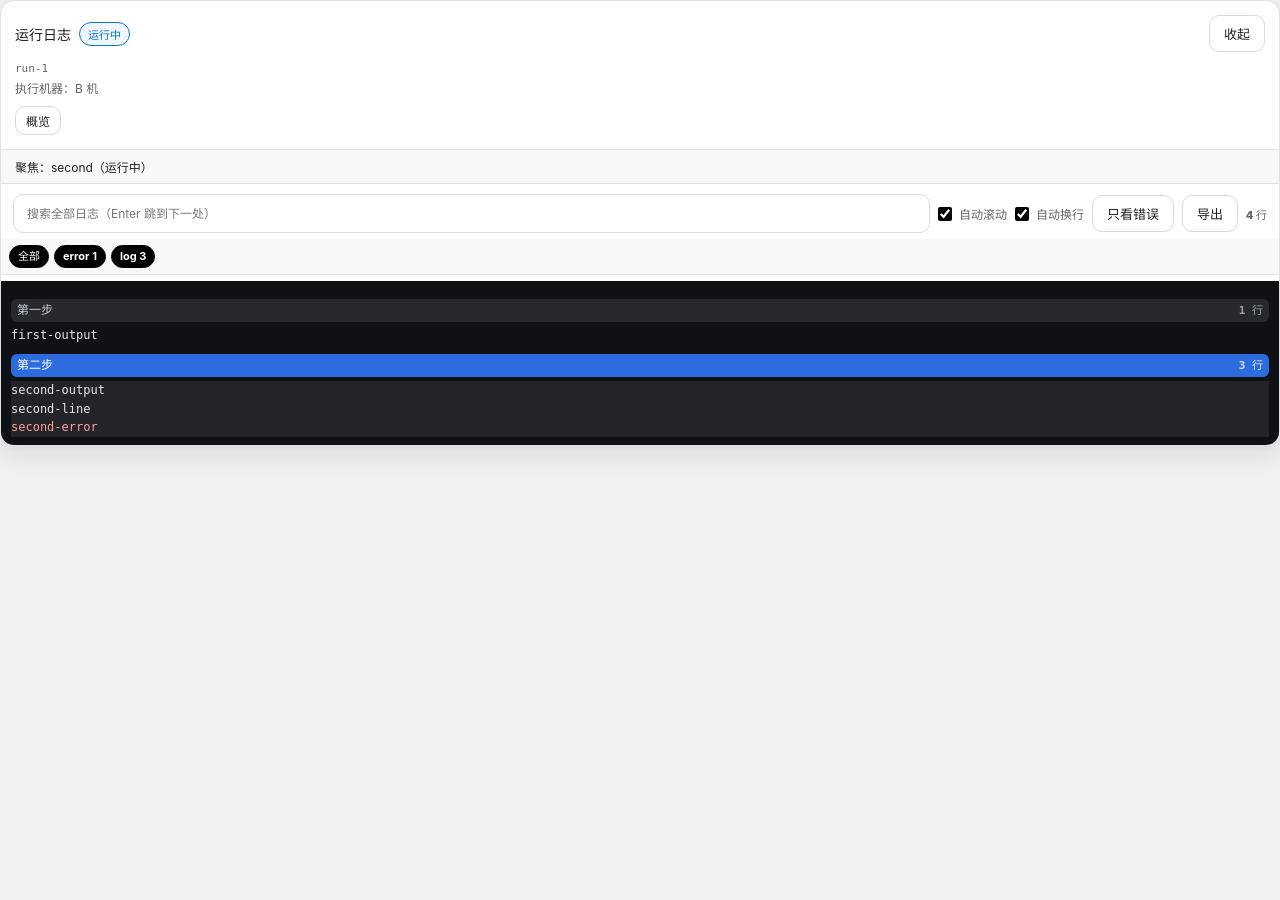
RunLogPanel 顶部折叠区 › 重试按钮在给出原因时禁用
Click the button "概览" at (38, 120), box [15, 106, 61, 135]
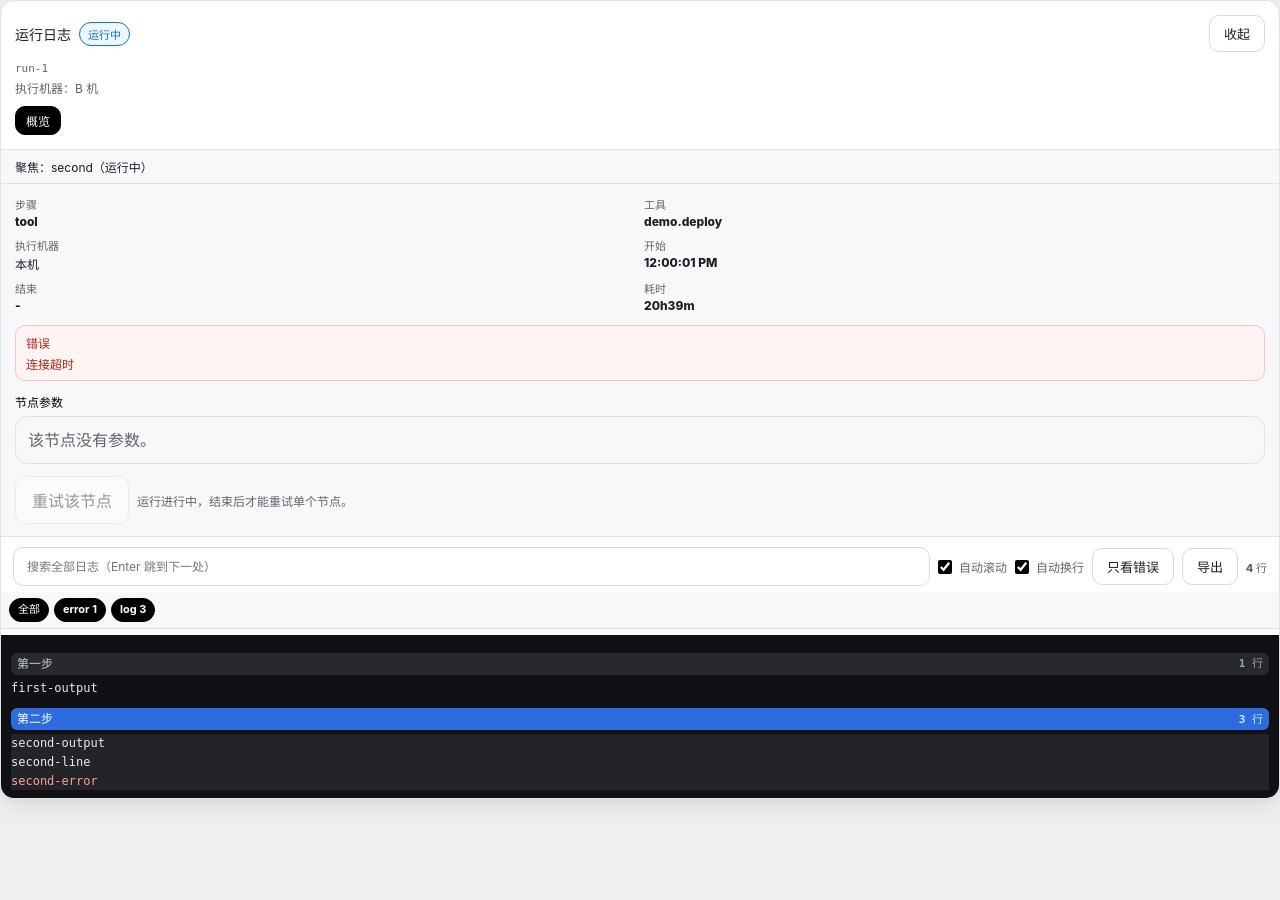
Expected: the button "重试该节点" is disabled, [15, 476, 129, 524]
Expected: the element with class "nodeRunOverview" shows "结束后才能重试", [137, 494, 353, 509]
